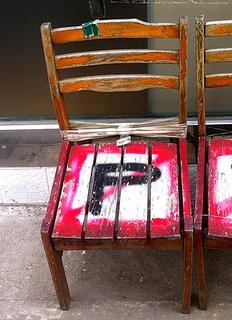obstacle: (41, 19, 192, 312)
